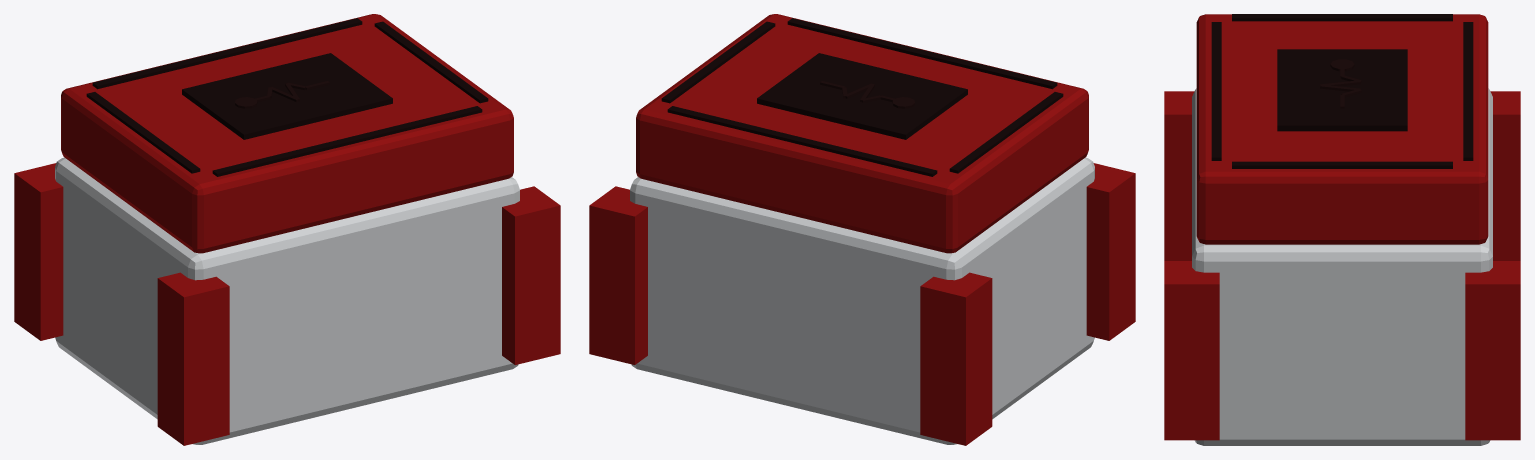
Rendered from HealBox.obj.
3 renders of one model, left to right at view 1: azimuth 30°, elevation 25°; view 2: azimuth 150°, elevation 25°; view 3: azimuth 270°, elevation 25°, orthographic. The views are drawn at different scales.
Visible parts, largest first — view 1: Body, Lid, CornerArmor, GlowPanel, Icon; view 2: Body, Lid, CornerArmor, GlowPanel, Icon; view 3: Body, Lid, CornerArmor, GlowPanel, Icon.
Boxes of the visible parts, x1,y1,x2,y2 form: Body: (55, 157, 519, 444); Lid: (61, 14, 513, 253); CornerArmor: (14, 163, 560, 445); GlowPanel: (86, 18, 488, 176); Icon: (235, 81, 329, 108); Body: (630, 157, 1094, 444); Lid: (636, 14, 1088, 253); CornerArmor: (589, 163, 1135, 445); GlowPanel: (661, 18, 1063, 176); Icon: (820, 81, 914, 108); Body: (1192, 88, 1492, 445); Lid: (1196, 14, 1488, 244); CornerArmor: (1164, 91, 1520, 440); GlowPanel: (1211, 14, 1473, 168); Icon: (1320, 59, 1361, 108).
Size of the model in its own units: 0.455 by 0.3085 by 0.355.
